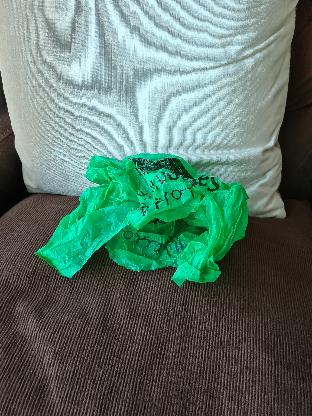Plastic Bag: (30, 146, 254, 286)
